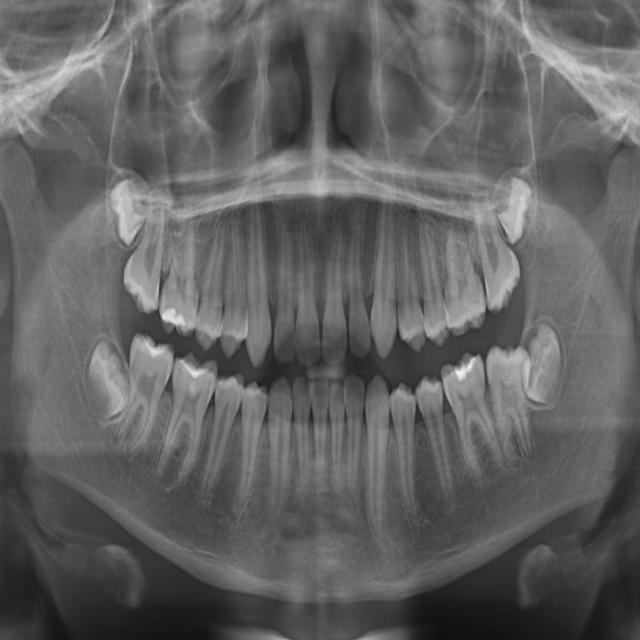CompositeResinRestoration: (178, 354, 209, 384), (452, 354, 476, 391), (143, 338, 168, 365), (161, 306, 186, 330)
